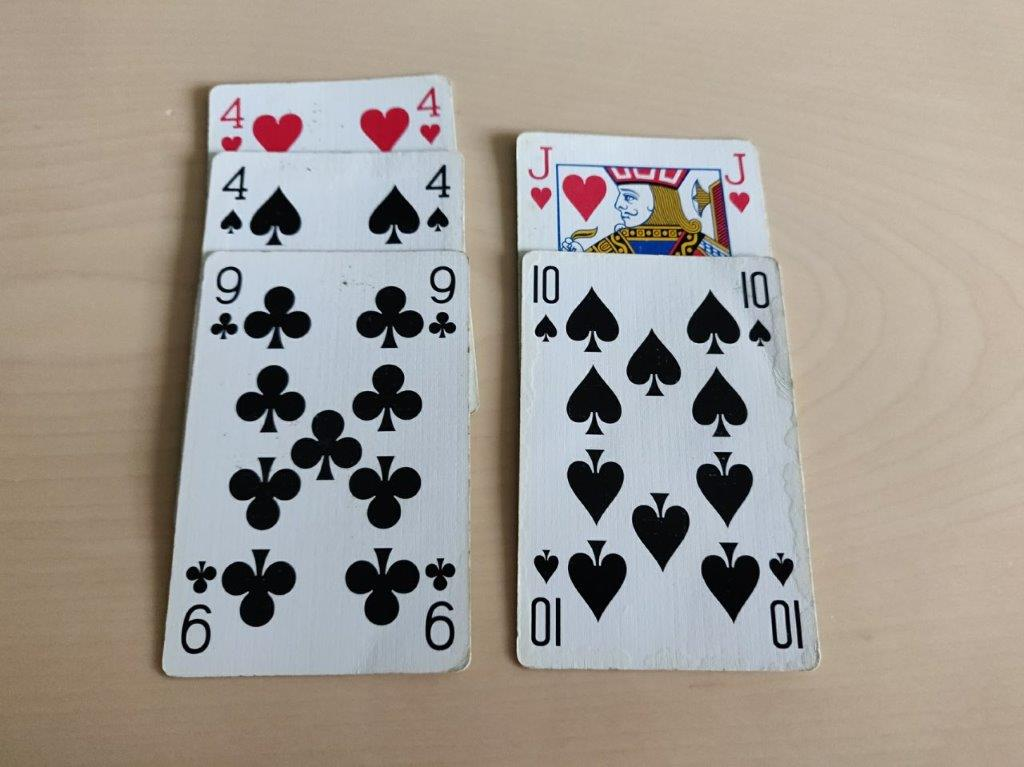10S: (524, 259, 563, 351), (738, 266, 777, 358)
4H: (213, 87, 248, 153), (414, 82, 449, 148)
4S: (215, 160, 251, 241), (422, 161, 458, 242)
9C: (206, 261, 245, 345), (422, 264, 461, 348)
JH: (520, 133, 558, 216), (719, 146, 757, 229)
